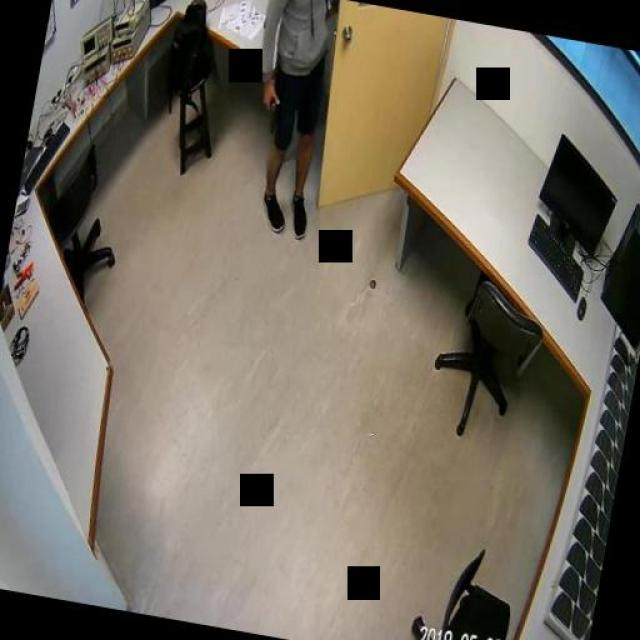gun: (255, 84, 280, 135)
